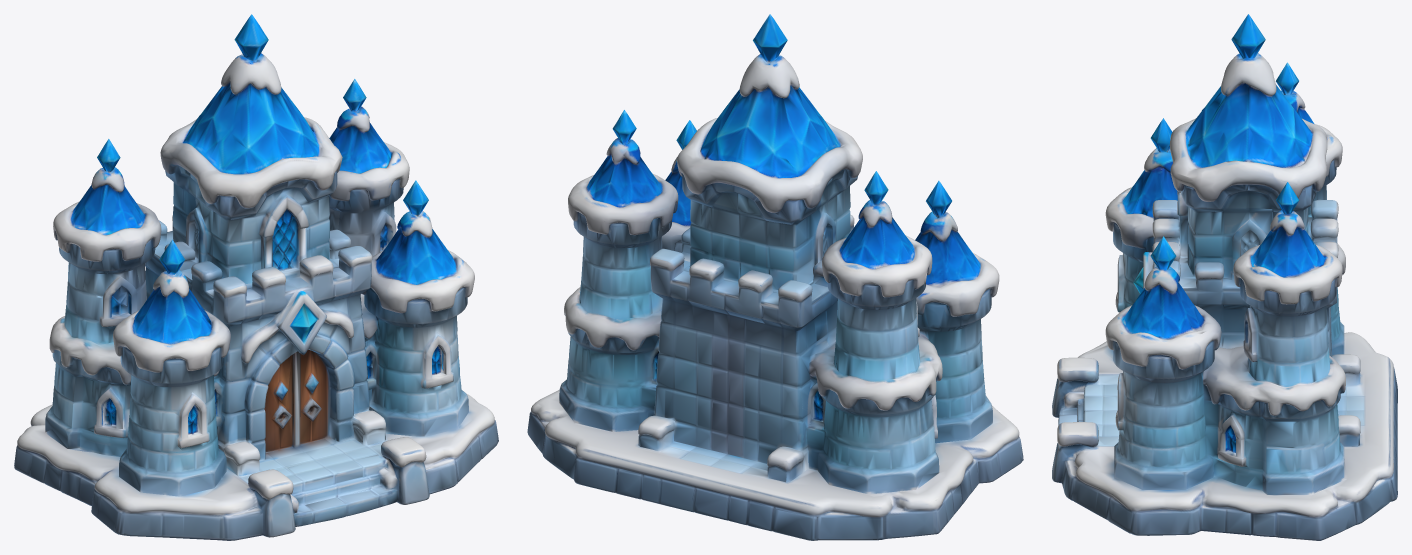
The model's file is ice-castle.glb.
The picture shows the model from 3 angles, left to right: view 1: azimuth 30°, elevation 25°; view 2: azimuth 150°, elevation 25°; view 3: azimuth 270°, elevation 25°; orthographic projection. The views are drawn at different scales.
Parts seen in each view (by area): view 1: node_0; view 2: node_0; view 3: node_0.
Part boxes in pixels (x1=…): node_0: x1=14, y1=14, x2=498, y2=540; node_0: x1=527, y1=14, x2=1023, y2=540; node_0: x1=1052, y1=14, x2=1397, y2=540.
Size of the model in its own units: 0.8062 by 0.8287 by 0.6038.
1 material, 1 textured.
